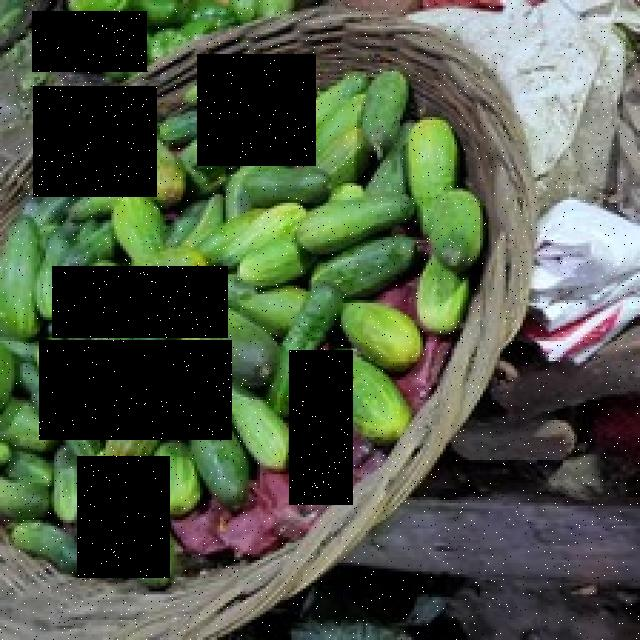Capsicum: (32, 12, 148, 73)
Cucumber: (40, 340, 233, 440), (34, 86, 158, 198), (198, 54, 316, 166), (52, 266, 228, 338), (78, 457, 170, 579), (290, 350, 354, 505)
